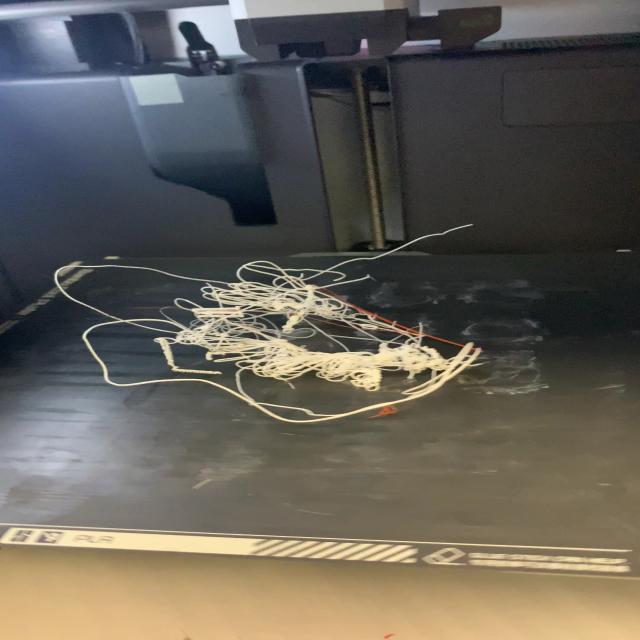spaghetti: (48, 223, 489, 426)
